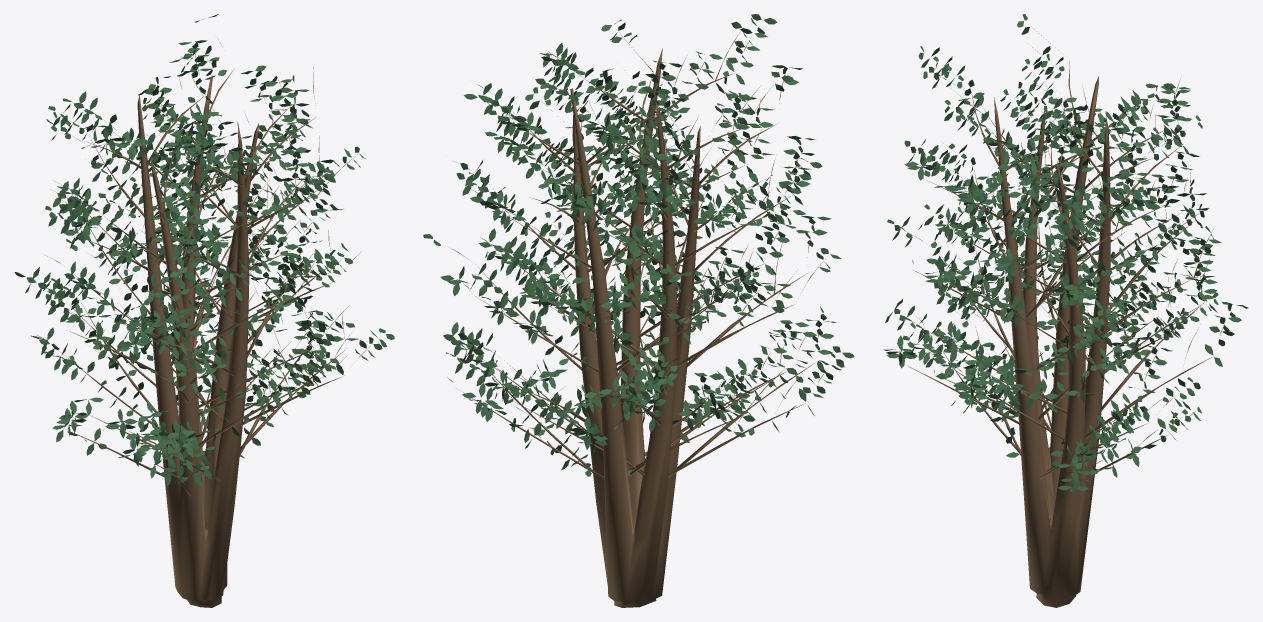
Rendered from Myrte_1_Niveau1.fbx.
The picture shows the model from 3 angles, left to right: view 1: azimuth 30°, elevation 25°; view 2: azimuth 150°, elevation 25°; view 3: azimuth 270°, elevation 25°; orthographic projection. The views are drawn at different scales.
Visible parts, largest first — view 1: Myrte_1_Niveau1_Jeu; view 2: Myrte_1_Niveau1_Jeu; view 3: Myrte_1_Niveau1_Jeu.
Boxes of the visible parts, x1,y1,x2,y2 form: Myrte_1_Niveau1_Jeu: (14, 14, 394, 607); Myrte_1_Niveau1_Jeu: (423, 14, 854, 607); Myrte_1_Niveau1_Jeu: (883, 14, 1248, 607).
Size of the model in its own units: 133 by 194 by 122.
